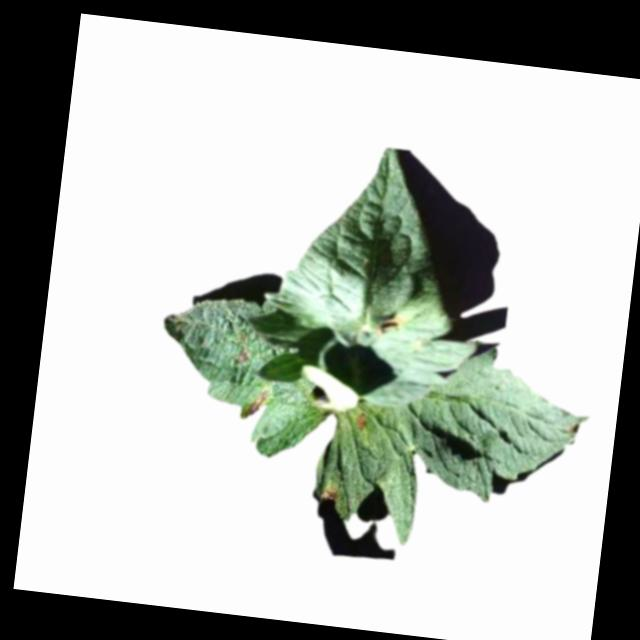Early_blight: (243, 386, 272, 418), (376, 311, 404, 336), (321, 484, 339, 503), (352, 411, 369, 431), (233, 348, 249, 363)
